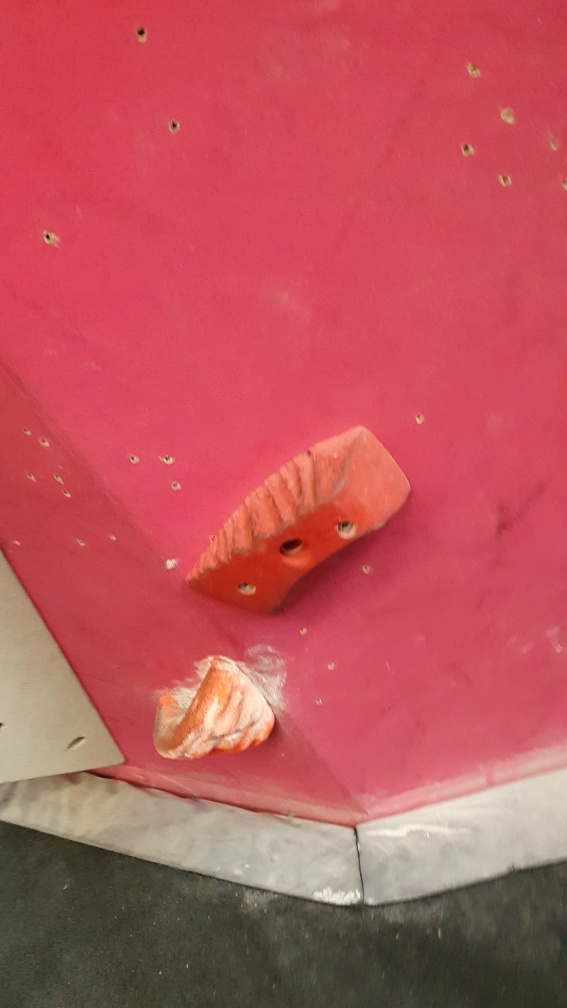Jug: (150, 657, 280, 765)
